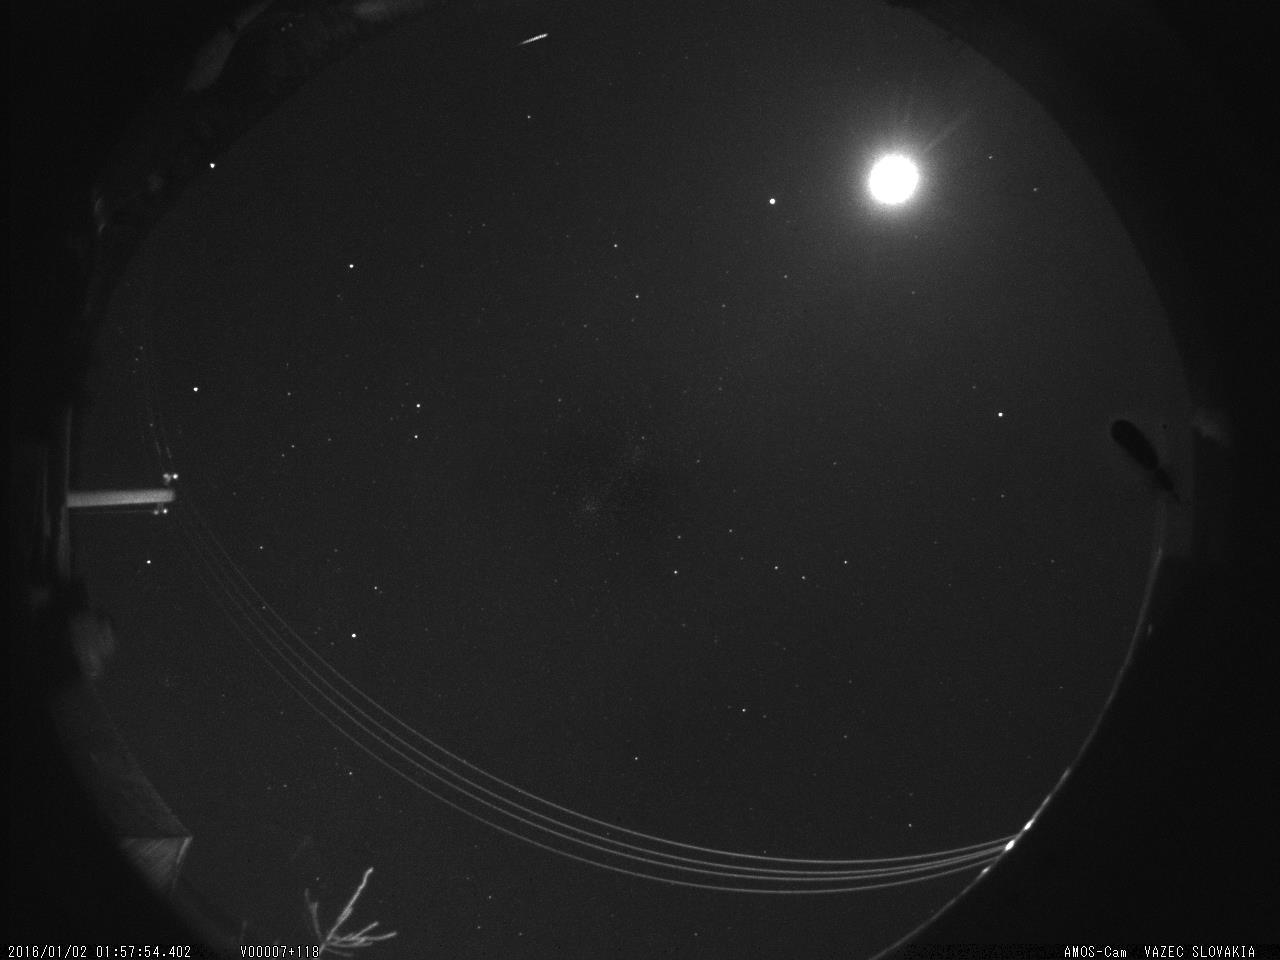Meteor: (509, 23, 557, 58)
